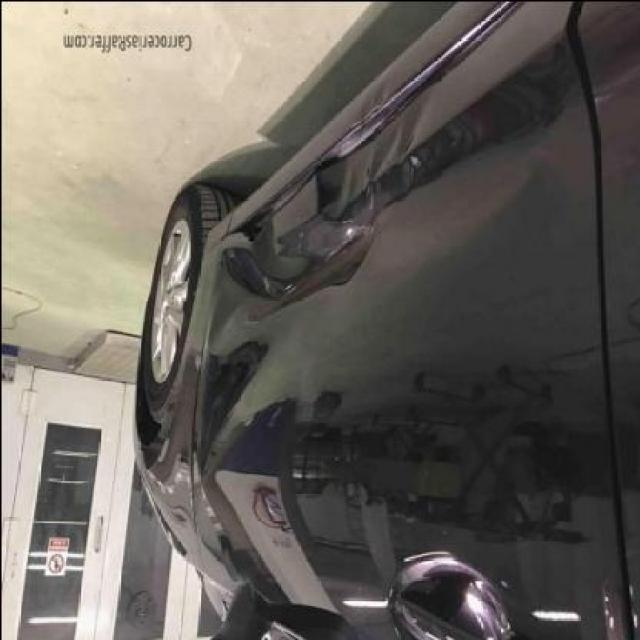damage: (217, 84, 418, 305)
